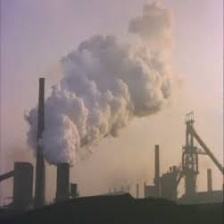smoke: (25, 6, 184, 164)
